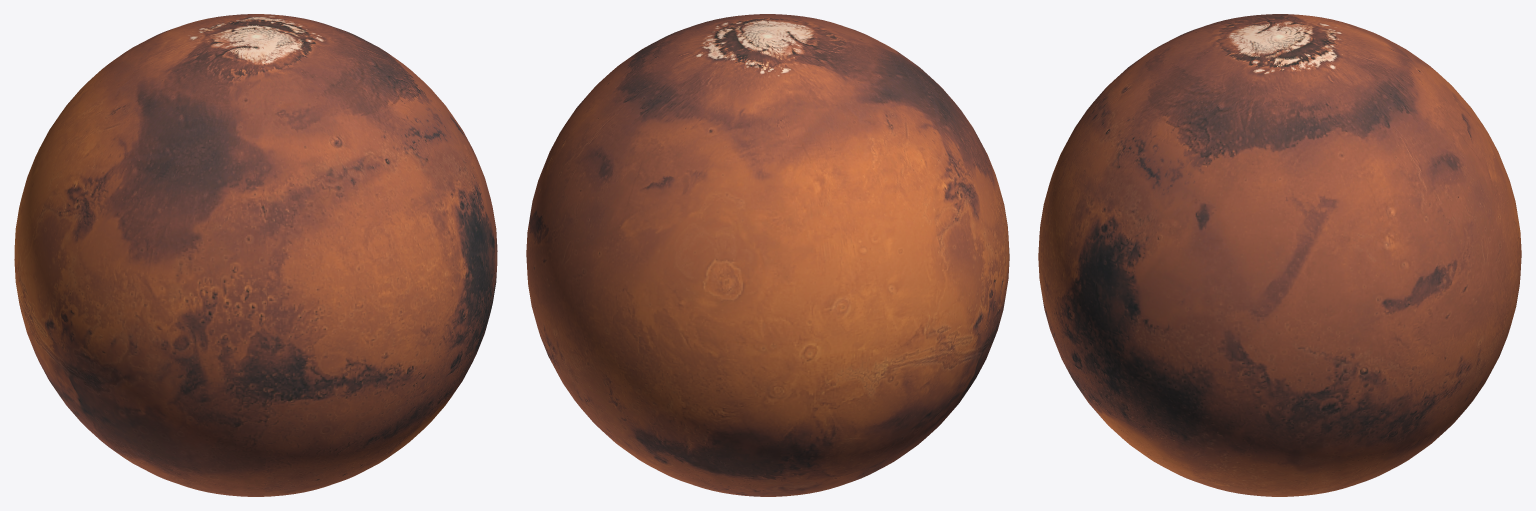
Rendered from Mars4k.glb.
The picture shows the model from 3 angles, left to right: view 1: azimuth 30°, elevation 25°; view 2: azimuth 150°, elevation 25°; view 3: azimuth 270°, elevation 25°; orthographic projection.
Parts seen in each view (by area): view 1: Sphere; view 2: Sphere; view 3: Sphere.
Boxes of the visible parts, box(x1,y1,x2,y2) form: Sphere: box(14, 14, 497, 496); Sphere: box(526, 14, 1009, 496); Sphere: box(1038, 14, 1521, 496).
Bounding box in the file's own units: 2 × 2 × 2.
1 material, 1 textured.
